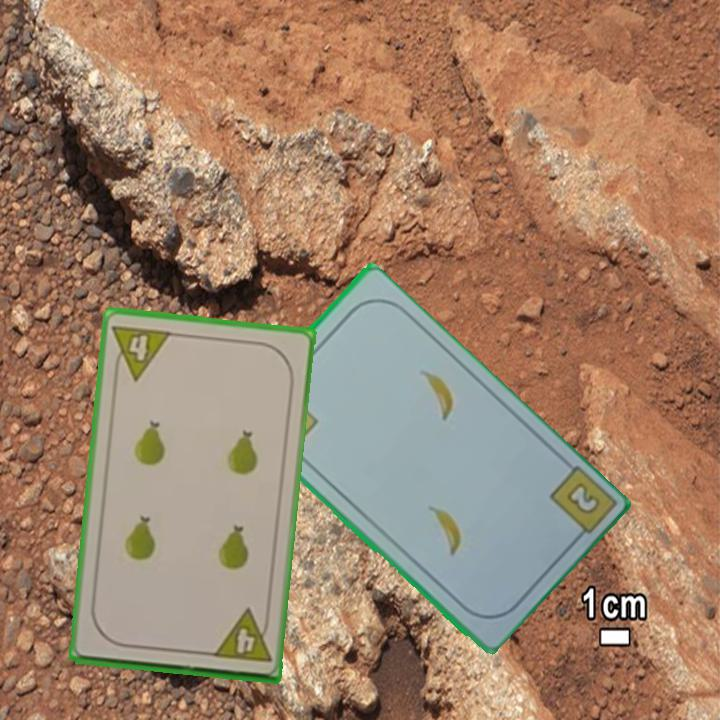2b: (562, 478, 600, 515)
4p: (109, 320, 174, 383), (209, 606, 274, 665)
